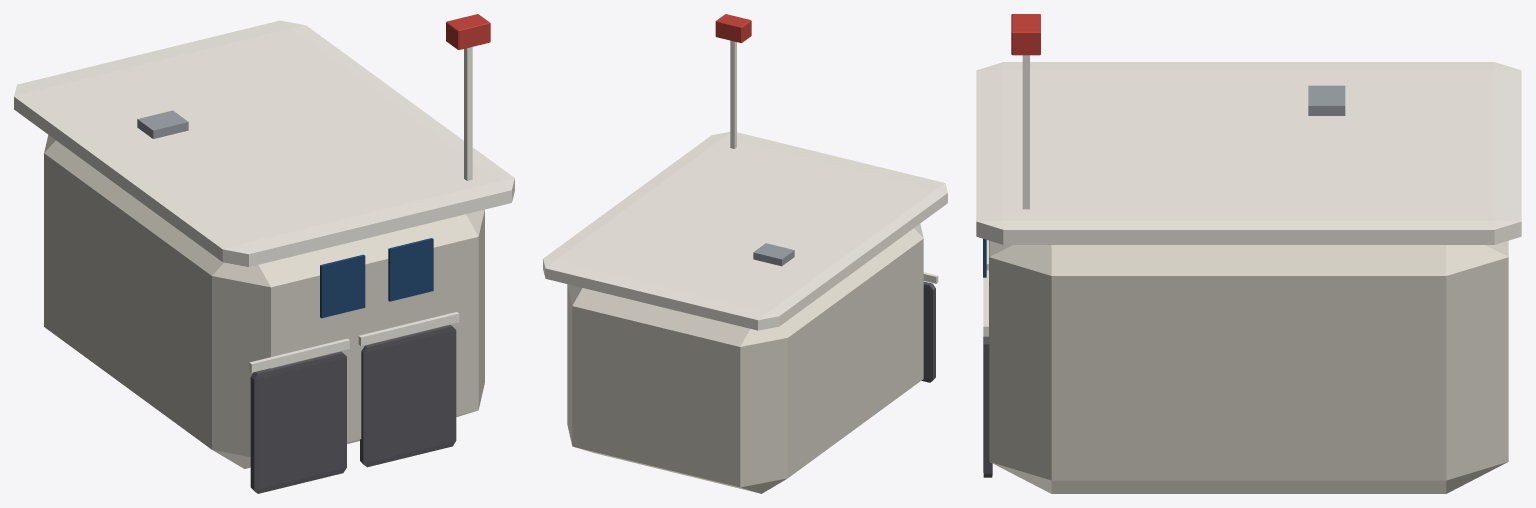
File: firehouse_s.glb
3 views of the same model, side by side, from view 1: azimuth 30°, elevation 25°; view 2: azimuth 150°, elevation 25°; view 3: azimuth 270°, elevation 25° (orthographic). The views are drawn at different scales.
Visible parts, largest first — view 1: cornice, walls, gdoor, gdoor.001, win, win.001, flag, pole, gframe.001, gframe, hvac; view 2: walls, cornice, gdoor, flag, pole, hvac; view 3: walls, cornice, flag, pole, hvac, gdoor.001.
Part boxes in pixels (x1,y1,x2,y2): cornice: (14, 20, 514, 266); walls: (44, 135, 484, 468); gdoor: (250, 351, 346, 493); gdoor.001: (360, 325, 456, 467); win: (320, 254, 365, 318); win.001: (388, 238, 433, 301); flag: (446, 14, 490, 49); pole: (464, 47, 472, 180); gframe.001: (358, 312, 459, 345); gframe: (249, 338, 349, 372); hvac: (137, 110, 188, 138); walls: (567, 224, 923, 493); cornice: (543, 132, 947, 330); gdoor: (921, 281, 935, 382); flag: (715, 14, 751, 43); pole: (730, 40, 736, 148); hvac: (753, 243, 794, 266); walls: (989, 240, 1508, 493); cornice: (976, 62, 1521, 244); flag: (1011, 14, 1040, 55); pole: (1022, 55, 1029, 209); hvac: (1308, 85, 1345, 115); gdoor.001: (983, 287, 992, 477).
Bounding box in the file's own units: 10.7 × 14.1 × 14.7.
